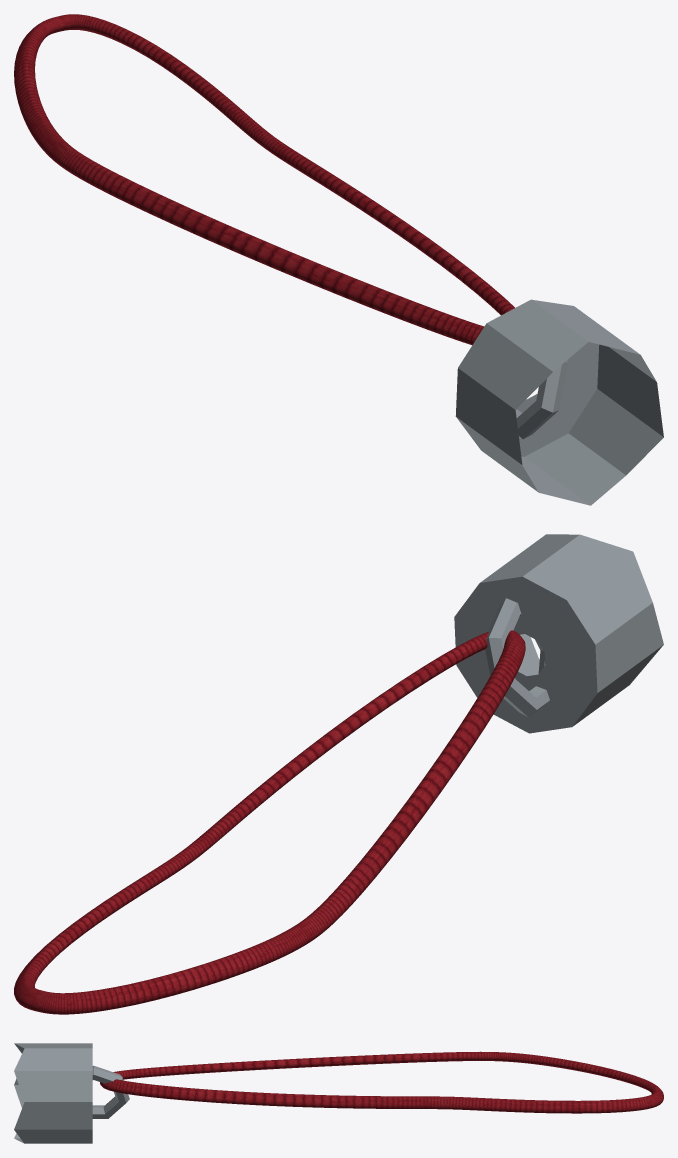
Rendered from ballhanger.glb.
The picture shows the model from 3 angles, top to bottom: view 1: azimuth 30°, elevation 25°; view 2: azimuth 150°, elevation 25°; view 3: azimuth 270°, elevation 25°; orthographic projection. The views are drawn at different scales.
Visible parts, largest first — view 1: Cylinder, NurbsCircle; view 2: Cylinder, NurbsCircle; view 3: NurbsCircle, Cylinder.
Part boxes in pixels (box(x1,y1,x2,y2)): Cylinder: box(455, 299, 663, 505); NurbsCircle: box(14, 14, 514, 344); Cylinder: box(454, 534, 663, 733); NurbsCircle: box(14, 630, 525, 1014); NurbsCircle: box(100, 1051, 663, 1113); Cylinder: box(14, 1043, 129, 1143).
Size of the model in its own units: 1.07 by 0.7887 by 5.05.
2 materials, 1 textured.
